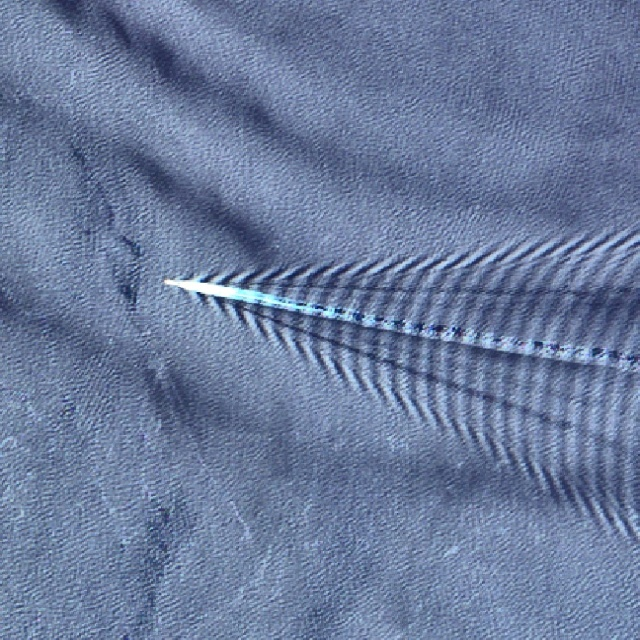wake: (138, 183, 513, 443)
